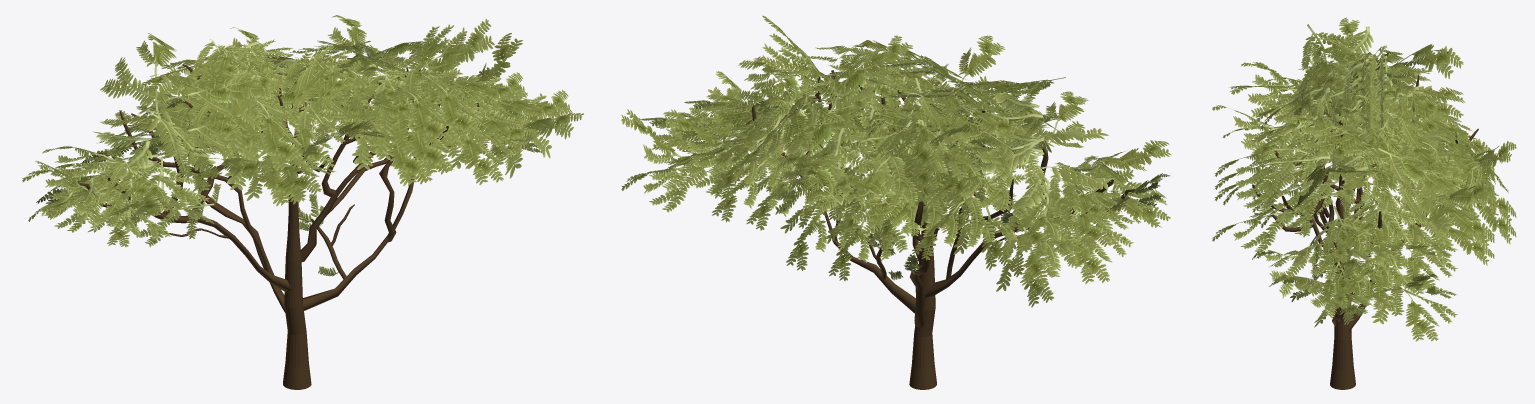
The model's file is BoomUnityTry.fbx.
3 renders of one model, left to right at view 1: azimuth 30°, elevation 25°; view 2: azimuth 150°, elevation 25°; view 3: azimuth 270°, elevation 25°, orthographic. The views are drawn at different scales.
Visible parts, largest first — view 1: polySurface157; view 2: polySurface157; view 3: polySurface157.
Part boxes in pixels (x1,y1,x2,y2): polySurface157: (22, 15, 583, 389); polySurface157: (621, 15, 1171, 389); polySurface157: (1212, 17, 1516, 389).
Bounding box in the file's own units: 53.24 × 32.1 × 29.49.
